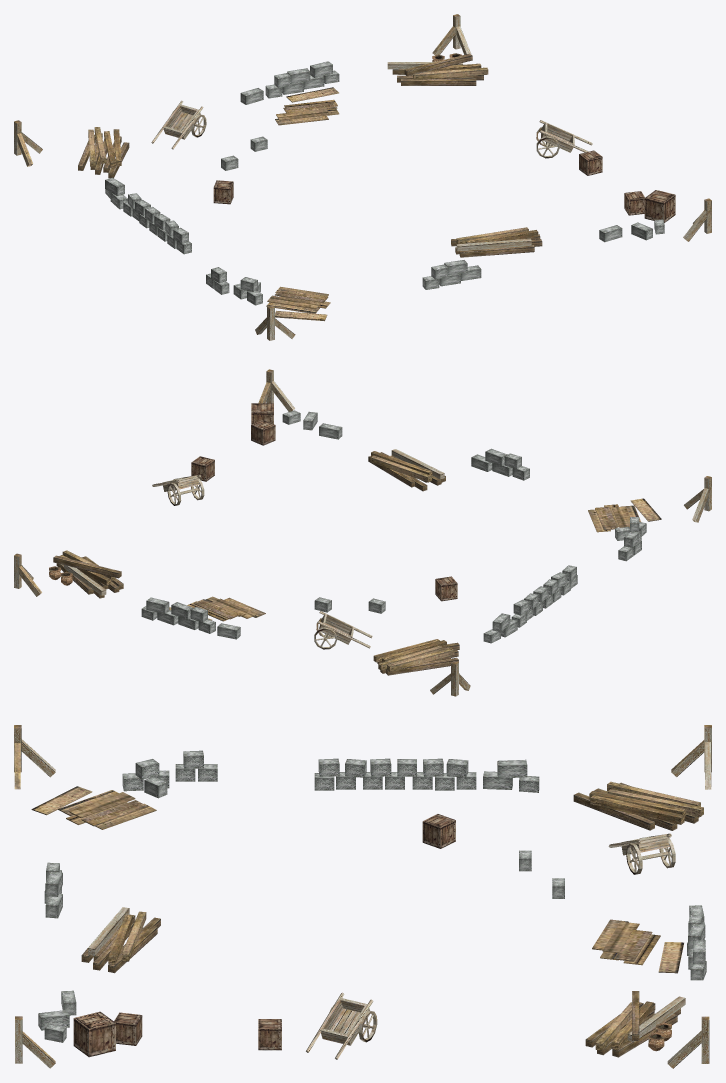
The model's file is found_8x8_a.dae.
3 renders of one model, top to bottom at view 1: azimuth 30°, elevation 25°; view 2: azimuth 150°, elevation 25°; view 3: azimuth 270°, elevation 25°, orthographic. The views are drawn at different scales.
Visible parts, largest first — view 1: found_8x8_a; view 2: found_8x8_a; view 3: found_8x8_a.
Boxes of the visible parts, bbox=[...] form: found_8x8_a: bbox=[14, 14, 711, 340]; found_8x8_a: bbox=[14, 369, 711, 696]; found_8x8_a: bbox=[14, 725, 711, 1068].
Size of the model in its own units: 39.49 by 3.08 by 39.52.
